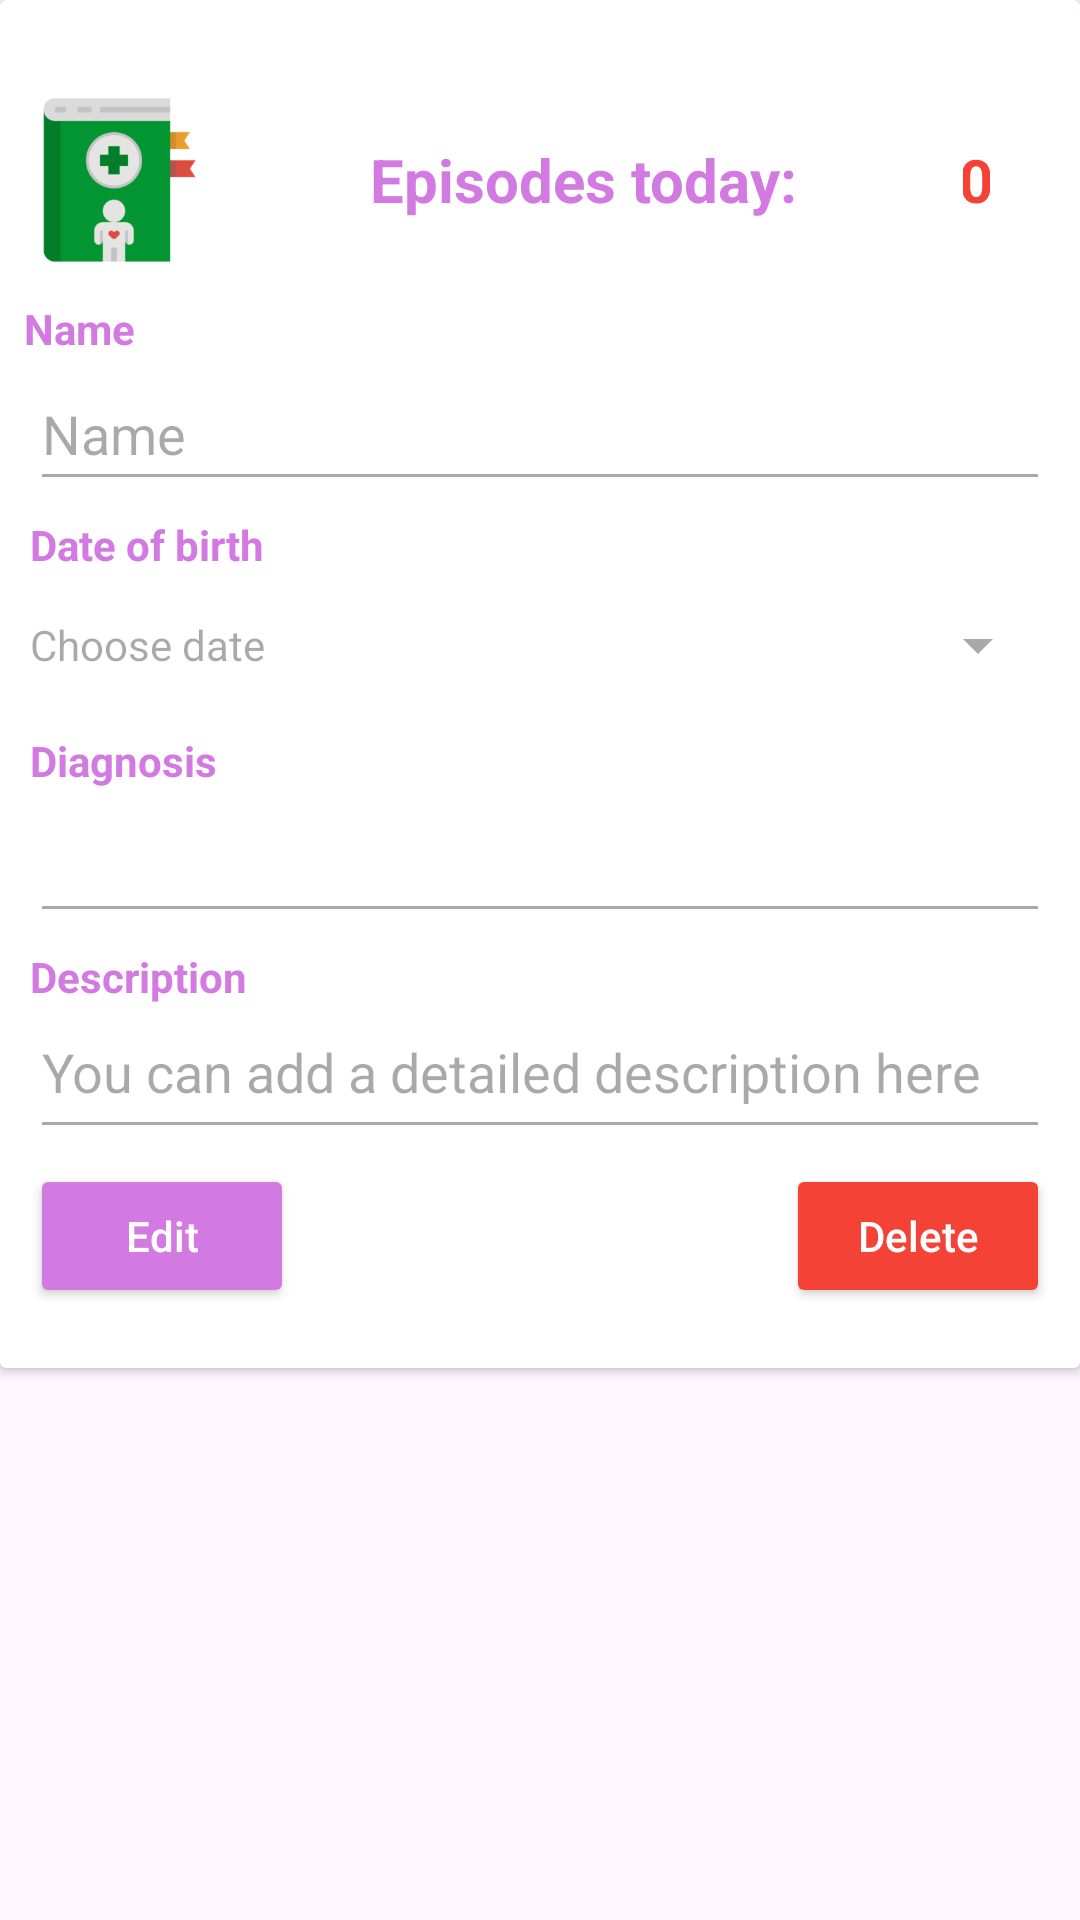

Icon click points for this 1080 × 1920 phone screenshot, format (x=x, y=y):
handbook medicine: (x=119, y=180)
